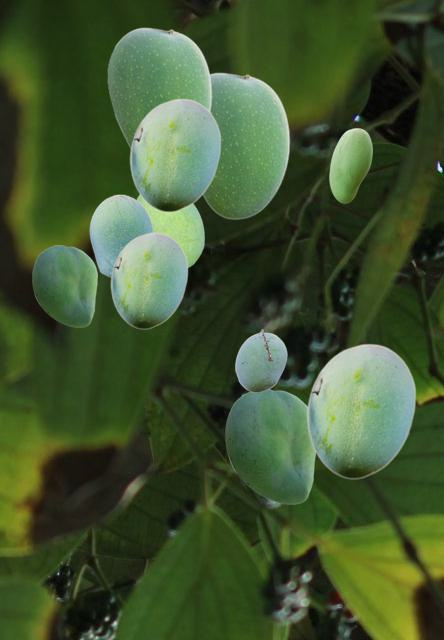green_mango: (306, 343, 415, 478), (107, 27, 211, 148), (203, 72, 289, 218), (225, 389, 316, 503), (129, 98, 220, 211), (110, 232, 187, 328), (89, 194, 153, 277), (32, 245, 96, 326), (136, 195, 203, 268), (235, 329, 286, 391), (329, 128, 371, 202)
